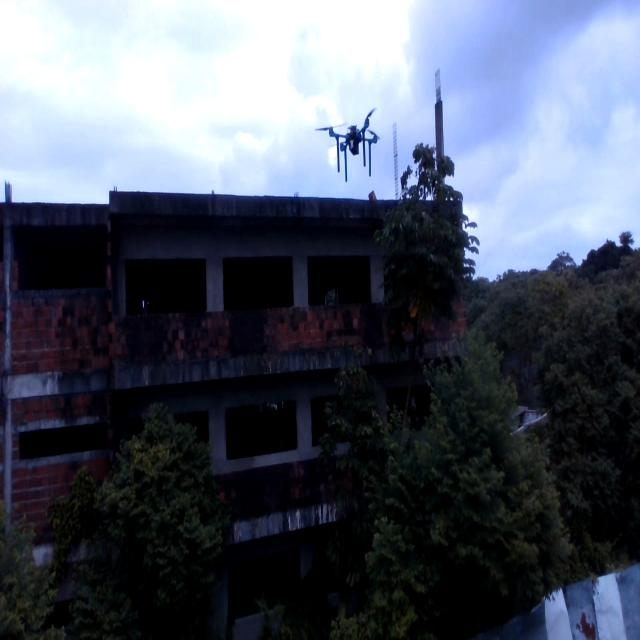-uav-: (309, 98, 387, 188)
